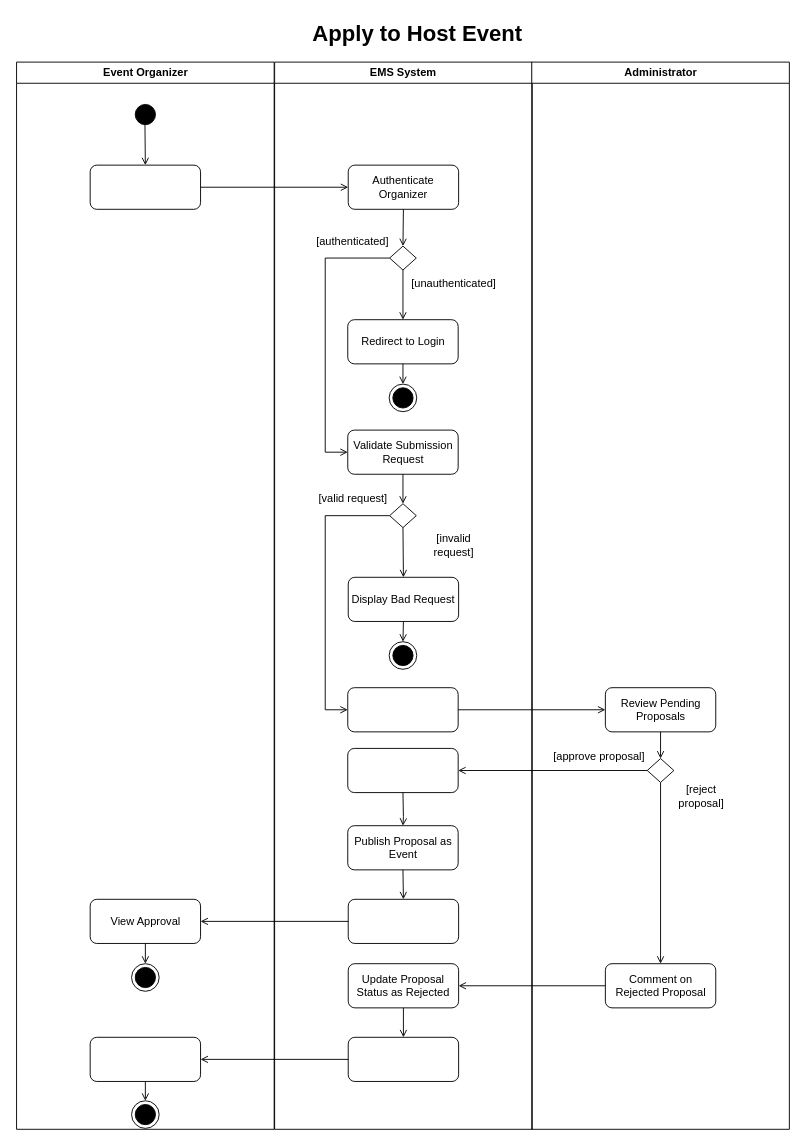
Image size: 805x1145. Some labels were removed from this diagram. The shapes that lost their labels are listed below. From the top down, each one's centre as x and y in pixels, then its label:
(145,186): Submit Event Proposal
(402,709): Store Proposal as Pending
(402,770): Update Proposal Status as Approved
(403,920): Notify Organizer on Approval
(145,1058): View Rejection and Comments
(403,1058): Notify Organizer on Rejection
